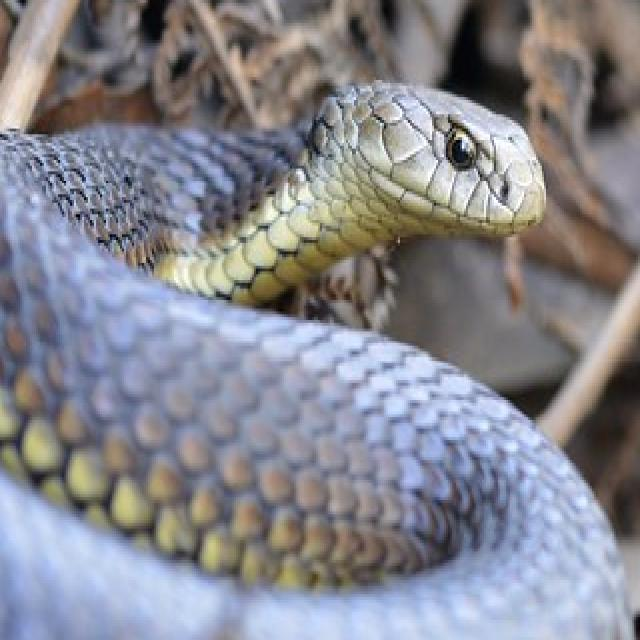snake: (0, 71, 640, 640)
